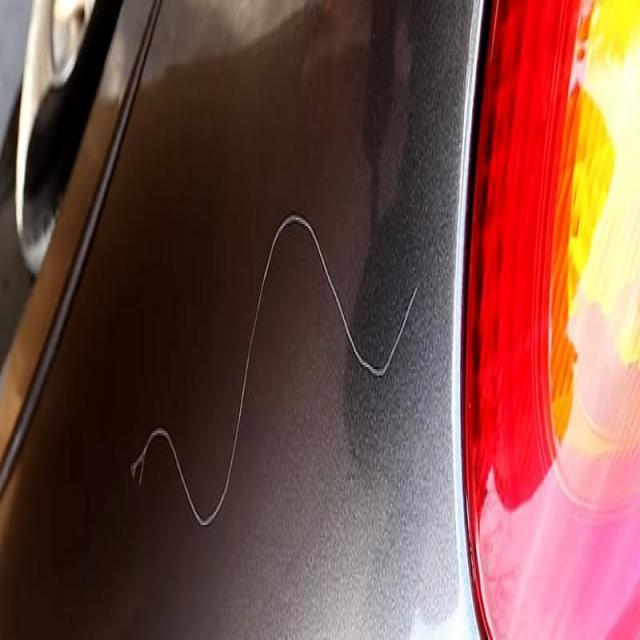scratch: (122, 183, 425, 552)
